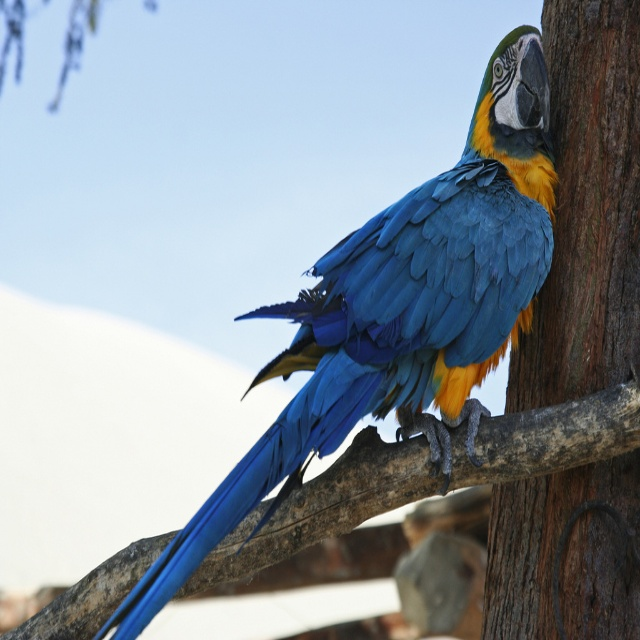Parrot: (93, 19, 560, 639)
